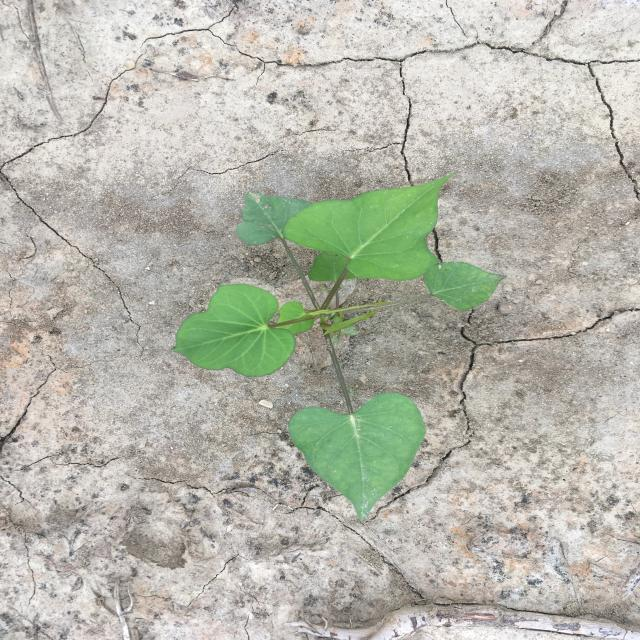MorningGlory: (173, 174, 508, 522)
